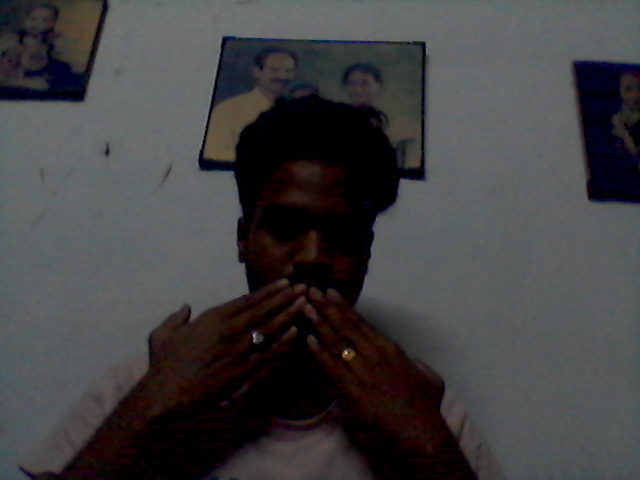Hi: (132, 279, 469, 439)
